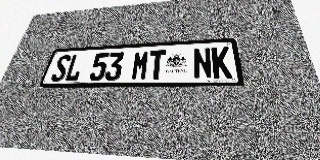3: (104, 52, 124, 81)
5: (89, 53, 110, 81)
K: (211, 46, 233, 79)
L: (63, 54, 85, 82)
M: (131, 51, 150, 80)
N: (193, 47, 212, 79)
S: (50, 55, 72, 82)
T: (147, 50, 166, 80)
